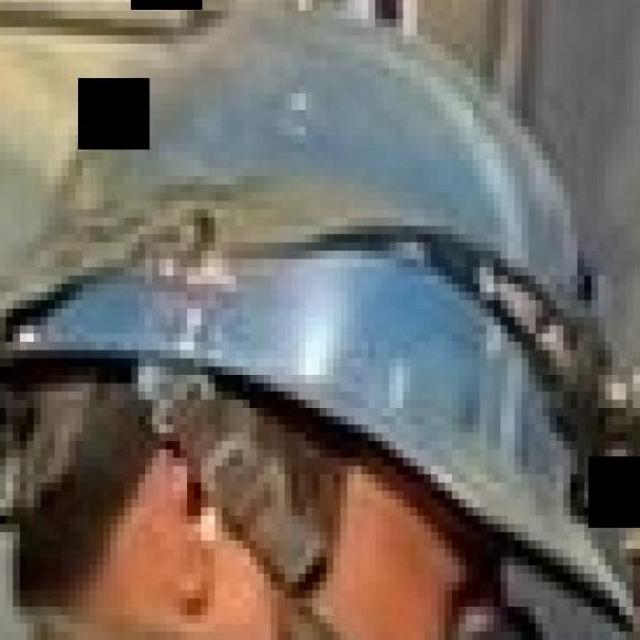blue helmet: (26, 18, 640, 560)
